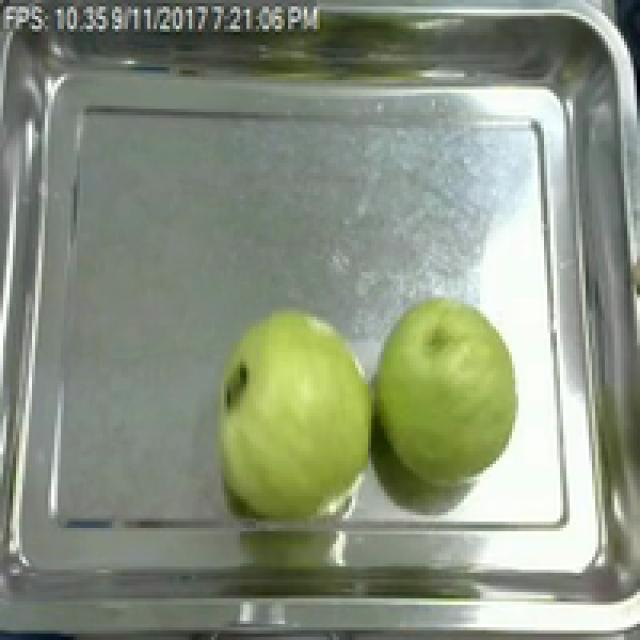Fruit: (202, 298, 387, 528), (365, 291, 531, 493)
